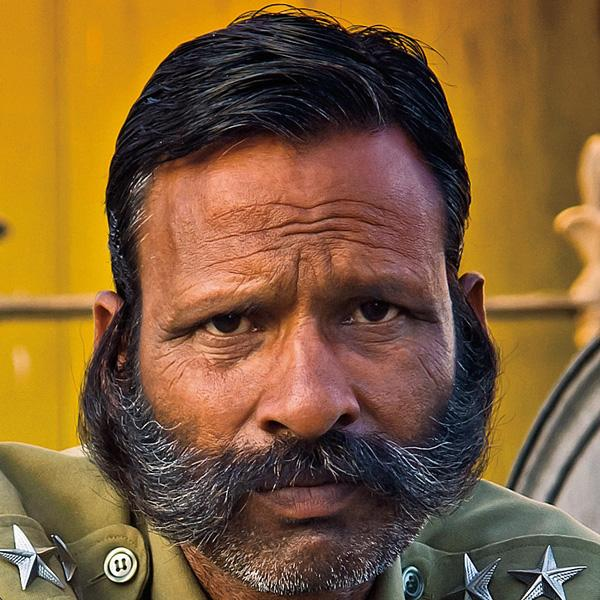Eyes: (184, 298, 273, 349), (331, 292, 413, 339)
